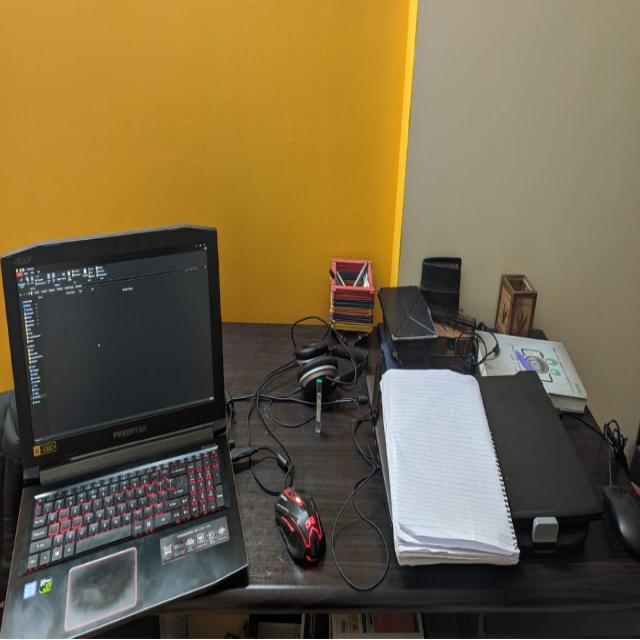book: (375, 367, 524, 565)
laptop: (0, 224, 241, 635)
mouse: (273, 486, 328, 567), (601, 480, 640, 555)
